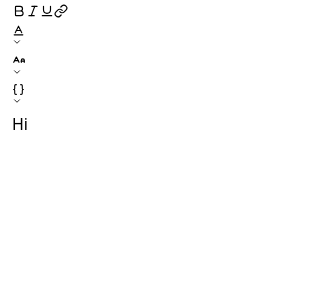
Test: TiptapEditor toolbar › offers the brand palette in the colour menu
Click the button named "Text color".
click(18, 36)  # box top-left (12, 24), bottom-right (25, 47)
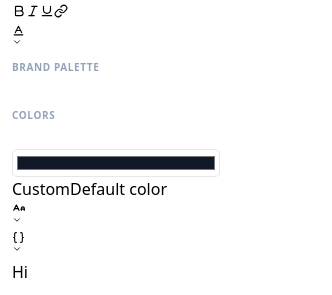
Result: the text "Brand palette" is shown at top-left (12, 60), bottom-right (100, 74)
